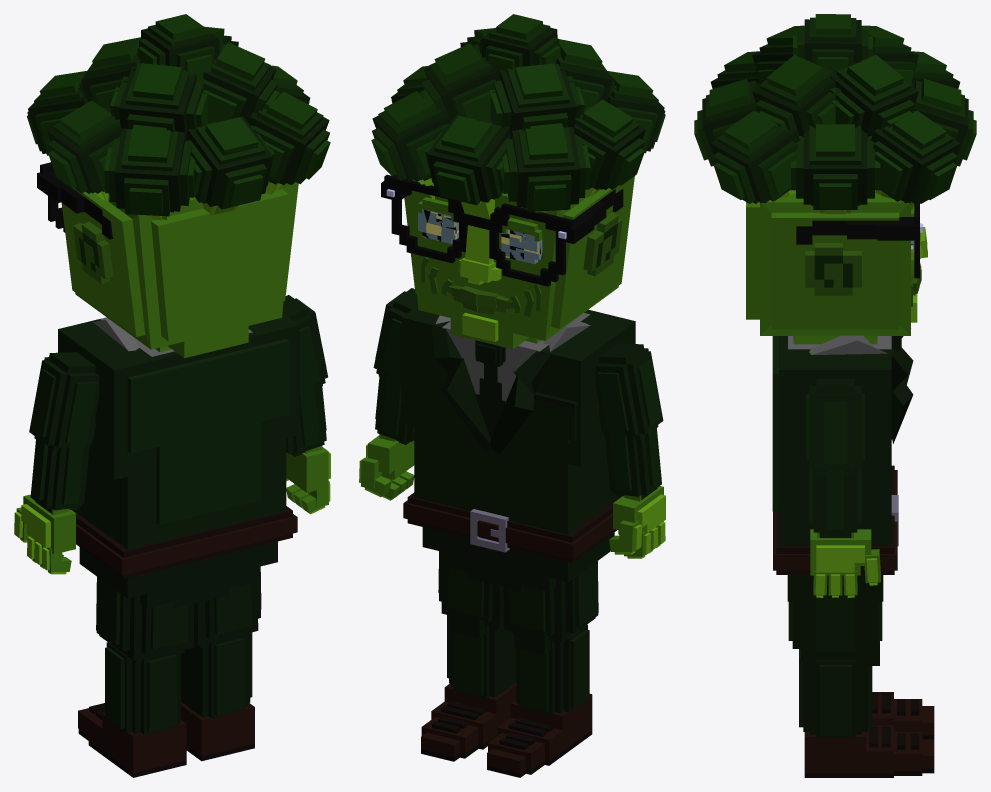
3 views of the same model, side by side, from view 1: azimuth 30°, elevation 25°; view 2: azimuth 150°, elevation 25°; view 3: azimuth 270°, elevation 25° (orthographic). The views are drawn at different scales.
Parts seen in each view (by area): view 1: Cube0311, Cube0381, Cube0441, Cube0431, Cube0351, Cube0331, Cube0301, Cube0411, Cube0401, Cube0391, Cube0291, Cube0371 (+2 smaller); view 2: Cube0311, Cube0331, Cube0381, Cube0431, Cube0351, Cube0411, Cube0301, Cube0291, Cube0441, Cube0391, Cube0371, Cube0341 (+4 smaller); view 3: Cube0311, Cube0381, Cube0431, Cube0351, Cube0301, Cube0331, Cube0411, Cube0441, Cube0391, Cube0291, Cube0371, Cube0421 (+2 smaller).
Part boxes in pixels (<box>): Cube0311: <box>29,295,327,732</box>; Cube0381: <box>16,182,328,572</box>; Cube0441: <box>31,314,326,524</box>; Cube0431: <box>27,14,330,215</box>; Cube0351: <box>27,25,329,272</box>; Cube0331: <box>79,541,277,734</box>; Cube0301: <box>28,28,329,212</box>; Cube0411: <box>76,514,297,773</box>; Cube0401: <box>73,506,292,578</box>; Cube0391: <box>14,181,330,574</box>; Cube0291: <box>37,162,112,239</box>; Cube0371: <box>73,221,113,284</box>; Cube0311: <box>373,288,663,711</box>; Cube0331: <box>422,325,614,714</box>; Cube0381: <box>360,176,663,556</box>; Cube0431: <box>371,14,665,210</box>; Cube0351: <box>372,24,665,267</box>; Cube0411: <box>403,500,614,773</box>; Cube0301: <box>372,27,664,207</box>; Cube0291: <box>381,174,623,286</box>; Cube0441: <box>375,309,661,491</box>; Cube0391: <box>359,178,665,558</box>; Cube0371: <box>421,212,622,316</box>; Cube0341: <box>435,313,590,401</box>; Cube0311: <box>779,336,891,735</box>; Cube0381: <box>746,190,914,595</box>; Cube0431: <box>694,14,976,209</box>; Cube0351: <box>697,17,973,287</box>; Cube0301: <box>702,19,968,205</box>; Cube0331: <box>787,336,913,737</box>; Cube0411: <box>773,470,934,773</box>; Cube0441: <box>772,336,864,529</box>; Cube0391: <box>757,190,927,597</box>; Cube0291: <box>796,202,919,278</box>; Cube0371: <box>805,243,921,306</box>; Cube0421: <box>804,692,934,777</box>.
Bounding box in the file's own units: 3.39 × 8.21 × 2.89.
